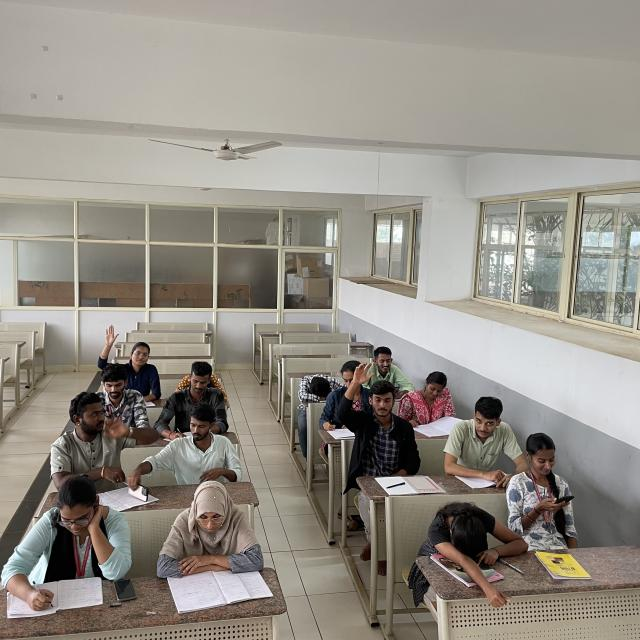Hand Rising: (337, 361, 415, 459), (97, 324, 163, 397)
Reading: (159, 475, 258, 590), (406, 361, 467, 436)
Sleeping: (423, 500, 518, 558), (296, 367, 345, 399)
Using Phone: (128, 419, 242, 502), (509, 432, 574, 534)
Writing: (0, 474, 110, 616), (157, 361, 230, 442), (320, 363, 361, 436)
